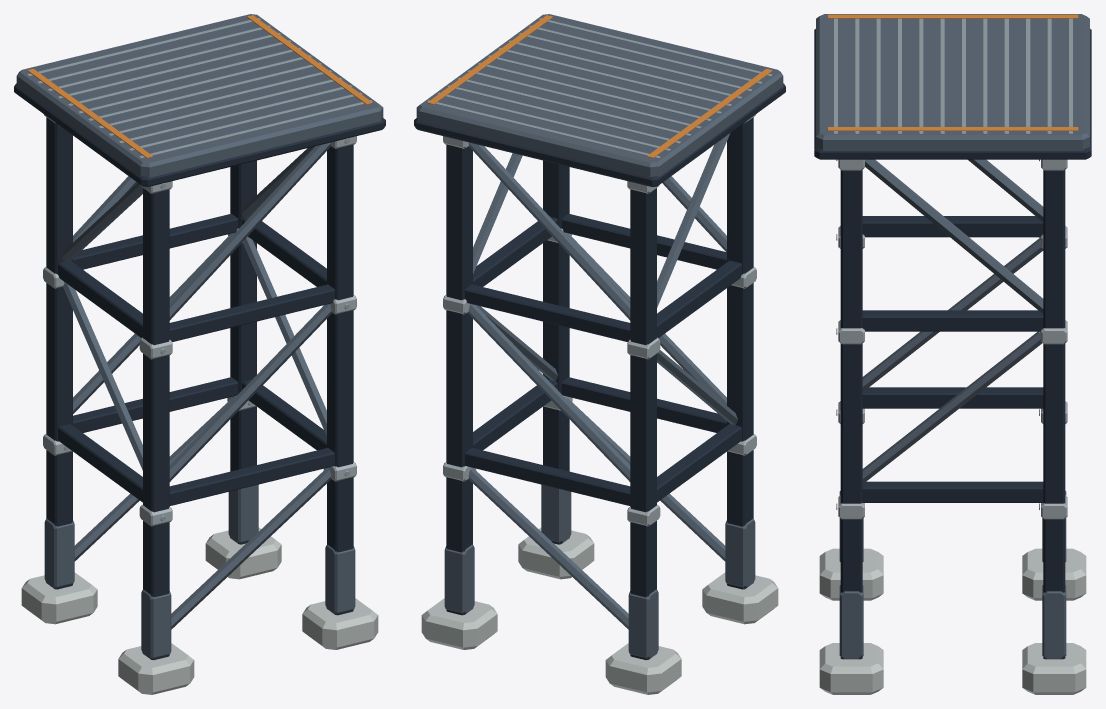
Rendered from watchtower_frame.glb.
The picture shows the model from 3 angles, left to right: view 1: azimuth 30°, elevation 25°; view 2: azimuth 150°, elevation 25°; view 3: azimuth 270°, elevation 25°; orthographic projection. The views are drawn at different scales.
Parts seen in each view (by area): view 1: watchtower_frame; view 2: watchtower_frame; view 3: watchtower_frame.
Part boxes in pixels (x1,y1,x2,y2): watchtower_frame: (14,14,385,694); watchtower_frame: (414,14,785,694); watchtower_frame: (814,14,1091,694).
Bounding box in the file's own units: 3.51 × 7.37 × 3.29.
